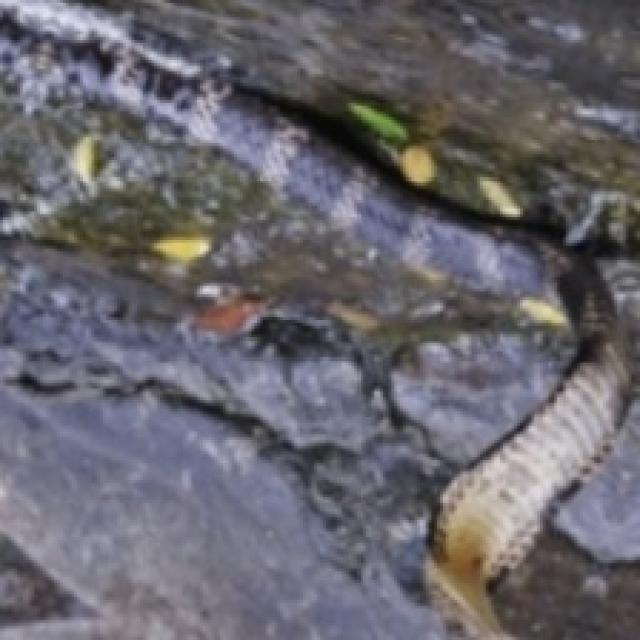king cobra: (0, 0, 611, 637), (340, 3, 637, 240), (491, 529, 637, 637)
